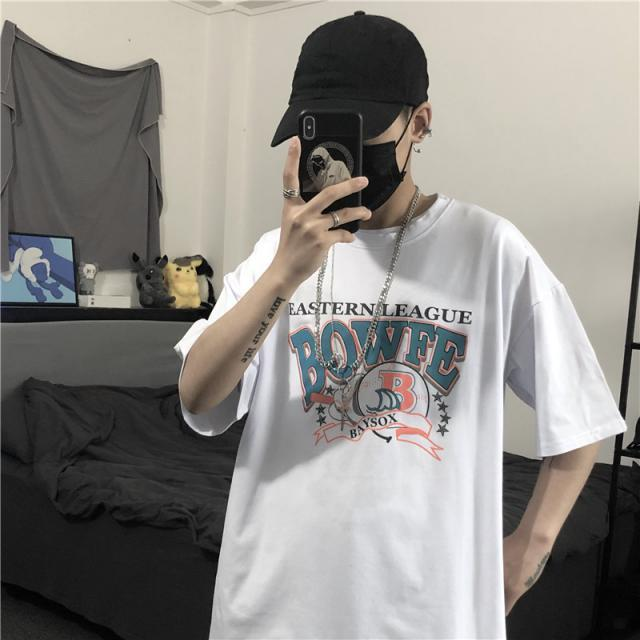Shirt: (168, 190, 634, 640)
